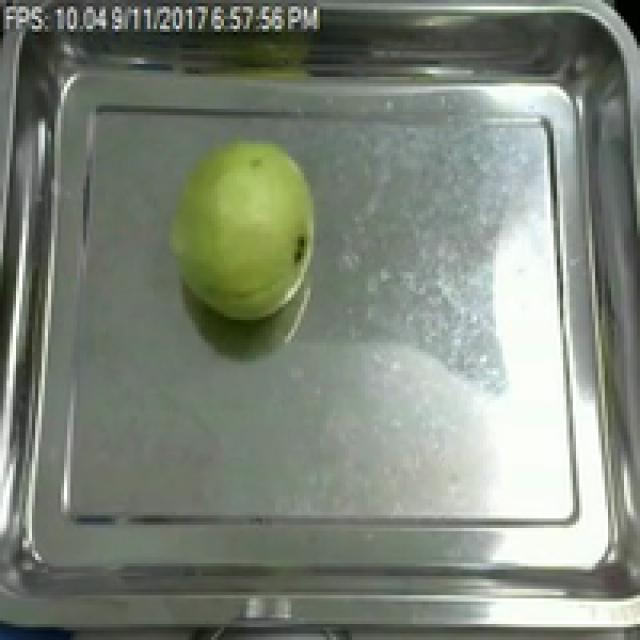Fruit: (157, 124, 326, 330)
